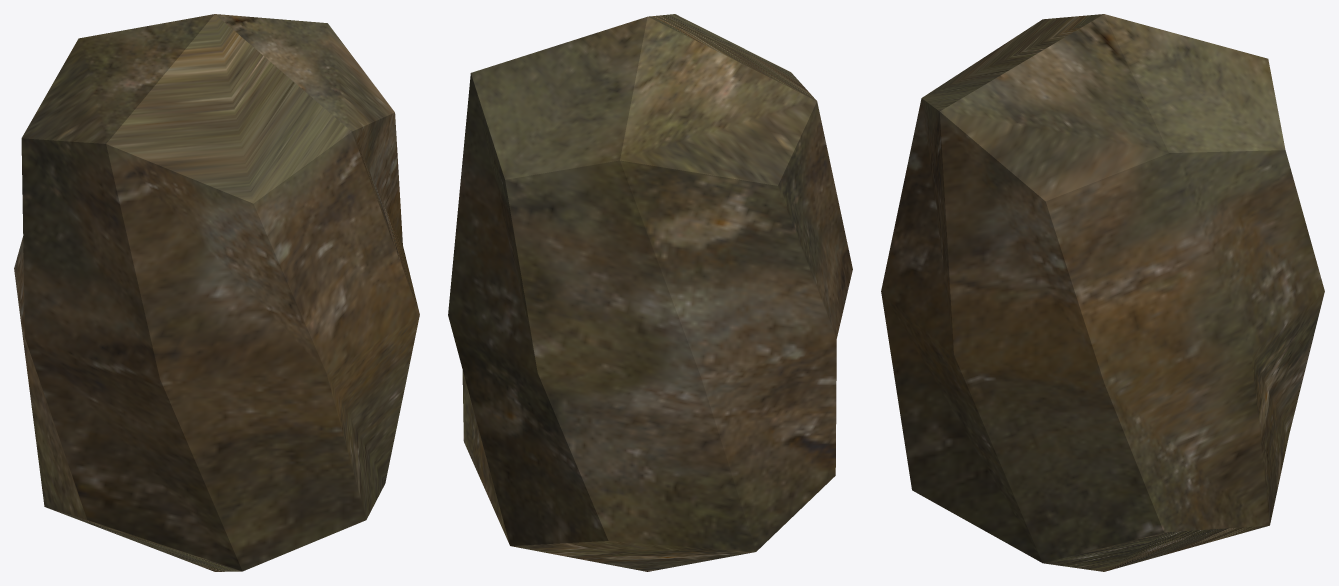
File: rock4.fbx
The picture shows the model from 3 angles, left to right: view 1: azimuth 30°, elevation 25°; view 2: azimuth 150°, elevation 25°; view 3: azimuth 270°, elevation 25°; orthographic projection.
Visible parts, largest first — view 1: rock.005; view 2: rock.005; view 3: rock.005.
Boxes of the visible parts, box(x1,y1,x2,y2) form: rock.005: box(14, 14, 419, 571); rock.005: box(448, 14, 852, 571); rock.005: box(881, 14, 1324, 571).
Size of the model in its own units: 0.584 by 0.8236 by 0.5937.
